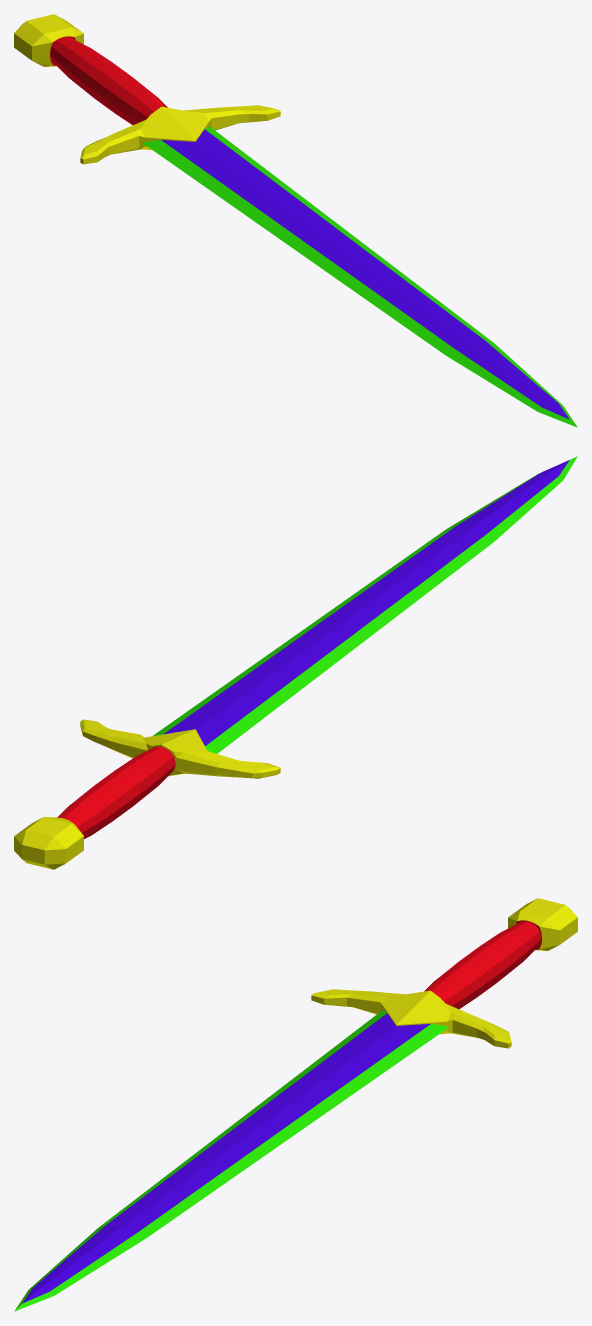
File: Sword.fbx
3 renders of one model, top to bottom at view 1: azimuth 30°, elevation 25°; view 2: azimuth 150°, elevation 25°; view 3: azimuth 330°, elevation 25°, orthographic.
Visible parts, largest first — view 1: Cylinder; view 2: Cylinder; view 3: Cylinder.
Part boxes in pixels (left/top/right/bottom): Cylinder: left=14, top=14, right=577, bottom=427; Cylinder: left=14, top=456, right=577, bottom=869; Cylinder: left=14, top=898, right=577, bottom=1311.
Size of the model in its own units: 112 by 20 by 534.
